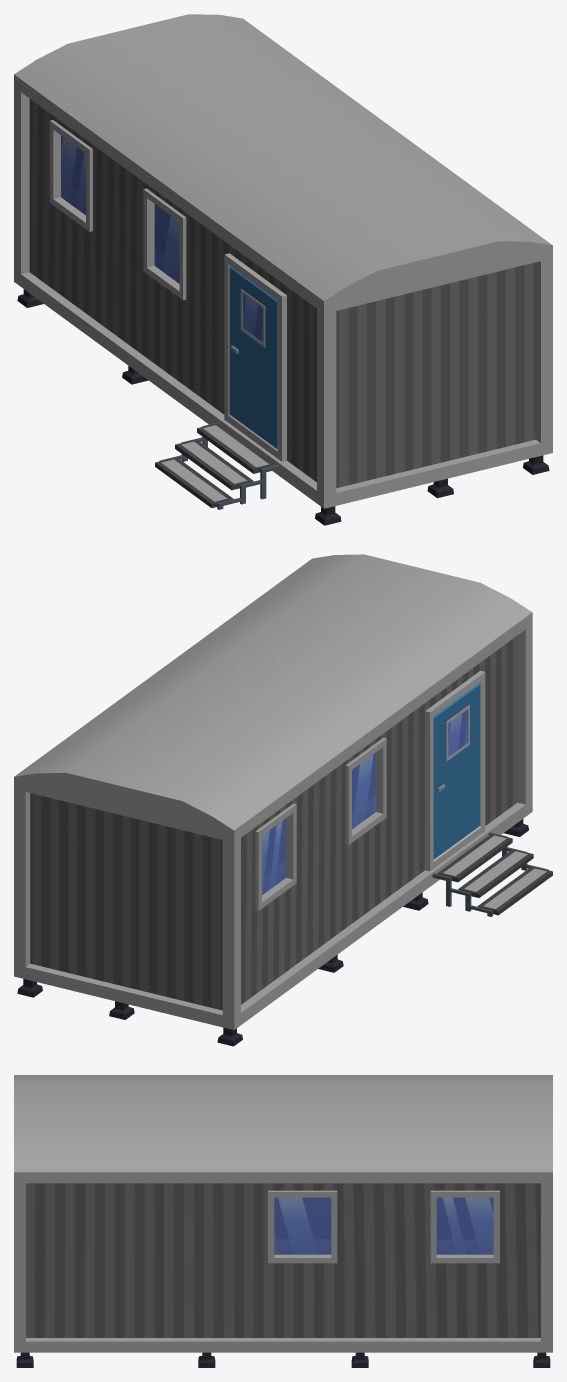
Rendered from TrailerC_1_B.fbx.
3 views of the same model, one above another, from view 1: azimuth 30°, elevation 25°; view 2: azimuth 150°, elevation 25°; view 3: azimuth 270°, elevation 25° (orthographic). The views are drawn at different scales.
Visible parts, largest first — view 1: TrailerC_1_B; view 2: TrailerC_1_B; view 3: TrailerC_1_B.
Boxes of the visible parts, x1,y1,x2,y2 form: TrailerC_1_B: [14, 14, 552, 525]; TrailerC_1_B: [14, 554, 552, 1046]; TrailerC_1_B: [14, 1075, 552, 1367].
Size of the model in its own units: 330 by 260 by 599.
